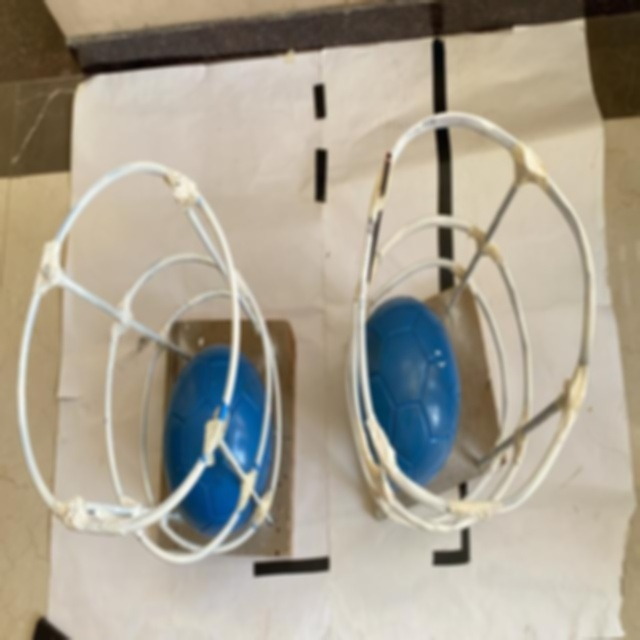blue_ball: (162, 346, 271, 536), (350, 297, 457, 488)
silo: (15, 164, 297, 564), (348, 111, 600, 556)
